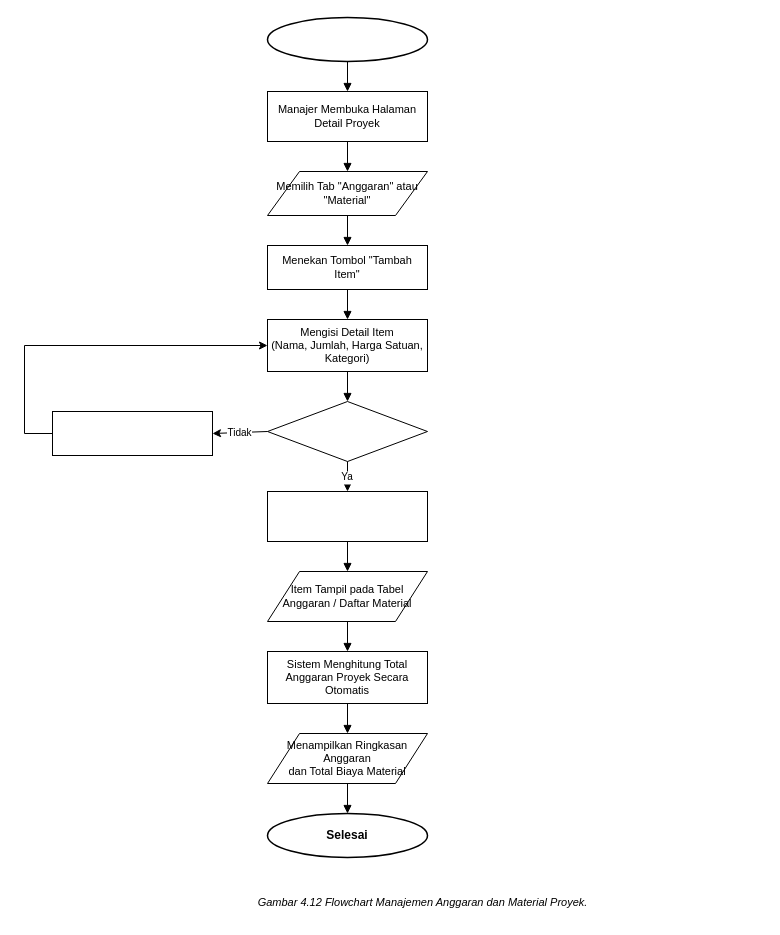
Image size: 780x935. Some labels were removed from this diagram. Each missing label, with the box of its shape:
Data Item Valid?: (266, 400, 428, 462)
Mulai: (266, 16, 428, 62)
Sistem Menampilkan Pesan Kesalahan: (52, 410, 212, 456)
Sistem Menyimpan Item ke Database Proyek: (266, 490, 428, 542)
